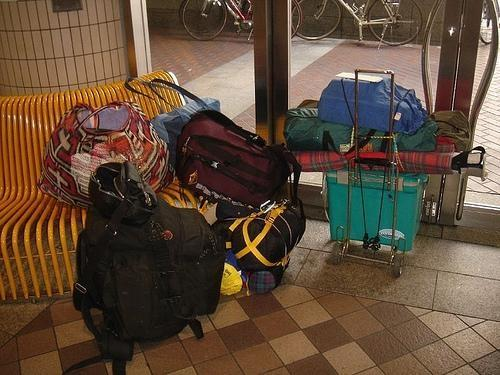bicycle: (296, 0, 422, 50), (183, 0, 302, 41), (480, 1, 500, 44)
